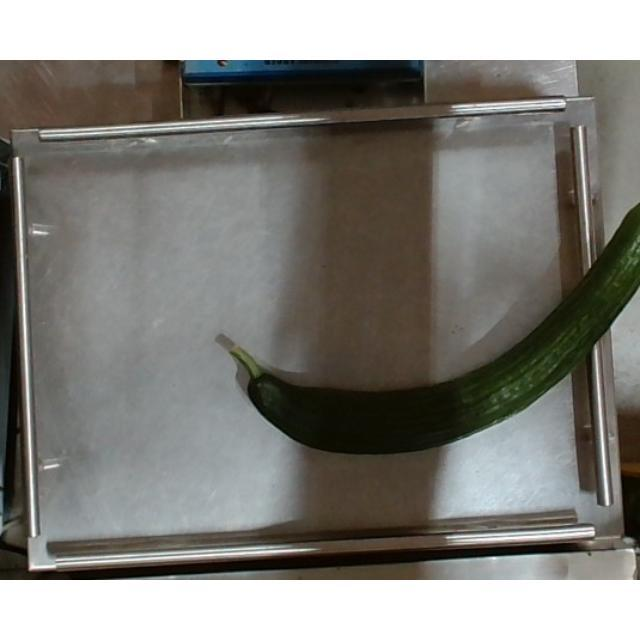cucumber: (222, 203, 640, 449)
